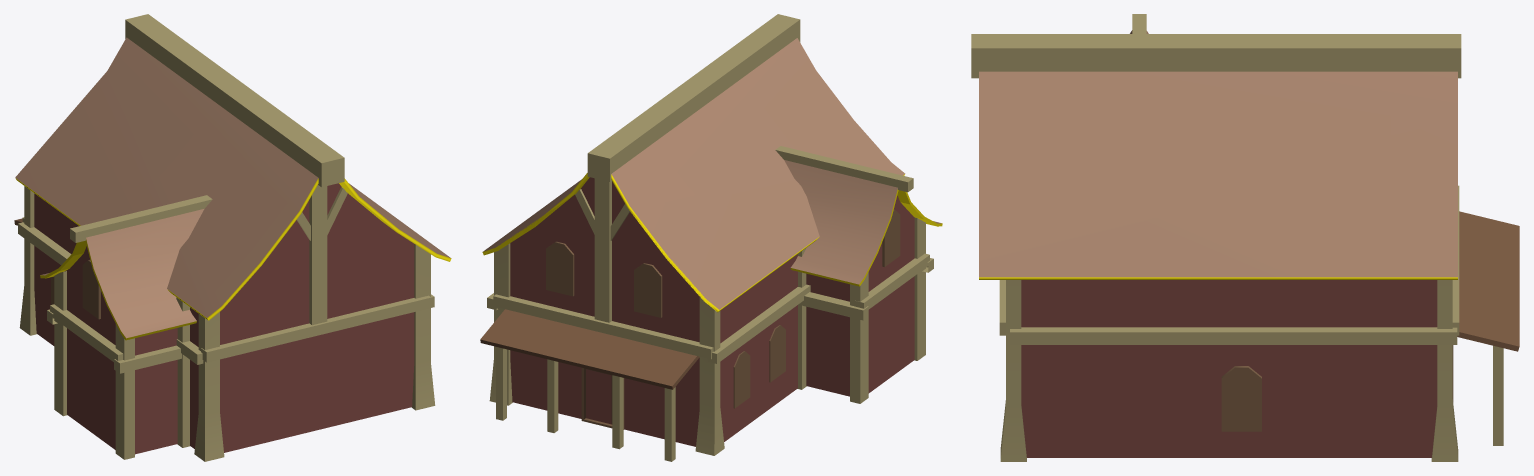
Rendered from House_02_LOD_FBX.fbx.
3 views of the same model, side by side, from view 1: azimuth 30°, elevation 25°; view 2: azimuth 150°, elevation 25°; view 3: azimuth 270°, elevation 25° (orthographic). The views are drawn at different scales.
Parts seen in each view (by area): view 1: LOD_MediumHouse; view 2: LOD_MediumHouse; view 3: LOD_MediumHouse.
Part boxes in pixels (x1,y1,x2,y2): LOD_MediumHouse: [14, 14, 451, 461]; LOD_MediumHouse: [480, 14, 942, 461]; LOD_MediumHouse: [971, 14, 1519, 461].
Bounding box in the file's own units: 7.47 × 6.39 × 9.03.
